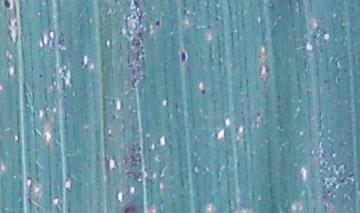tarspot: (179, 50, 187, 64), (2, 1, 12, 9), (132, 1, 142, 8), (154, 20, 161, 29), (200, 88, 207, 96), (37, 73, 44, 81), (126, 63, 135, 69), (321, 78, 328, 85), (136, 145, 142, 153), (111, 113, 116, 120), (131, 69, 136, 75), (112, 1, 119, 4)
